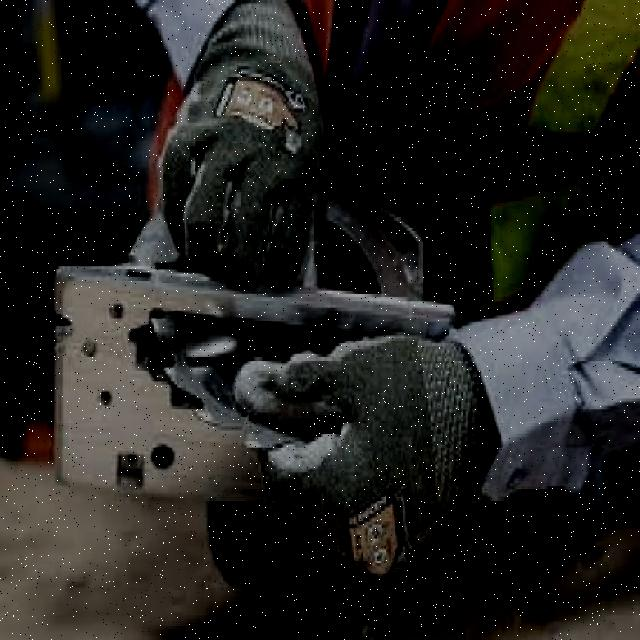Gloves: (250, 322, 488, 592), (158, 0, 338, 277)
